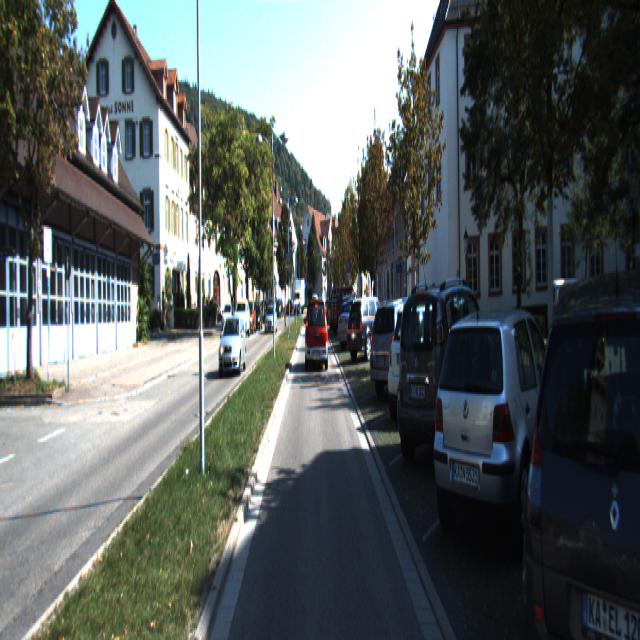Car: (521, 268, 639, 638), (424, 299, 571, 583), (393, 282, 503, 481), (384, 301, 463, 434), (366, 300, 440, 400), (346, 296, 396, 361), (337, 297, 376, 346), (218, 315, 248, 376), (306, 300, 328, 372), (330, 286, 360, 334), (233, 301, 250, 339), (265, 306, 278, 334), (222, 303, 234, 332)
